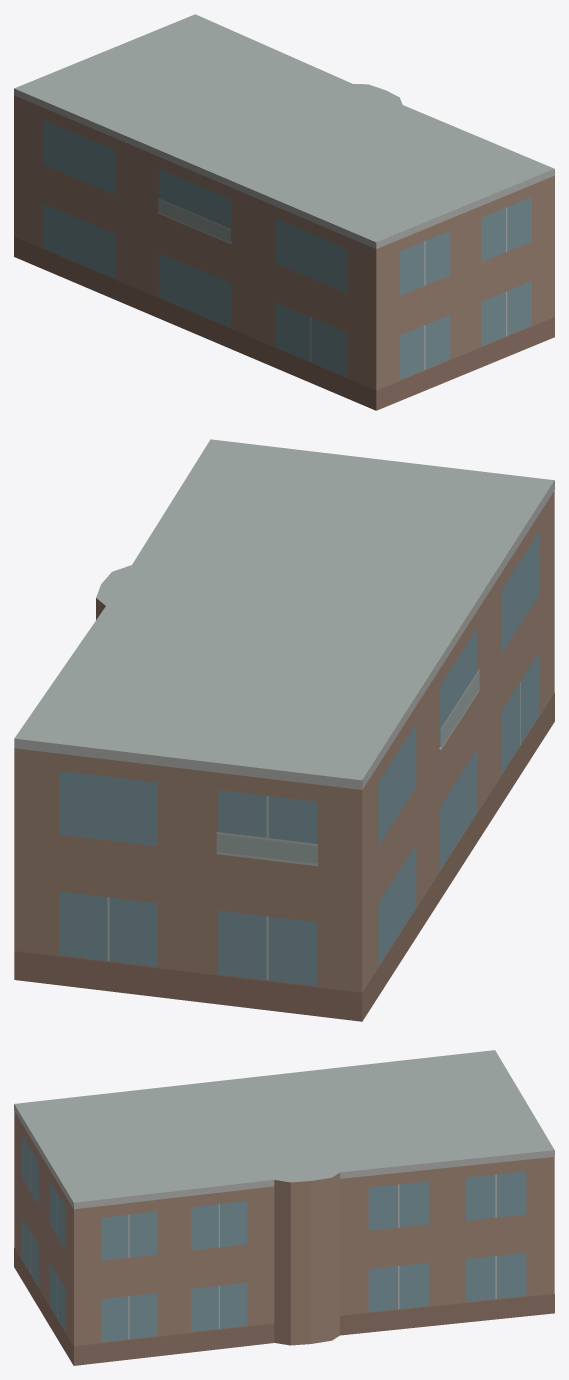
Rendered from survey-upis-32607720.glb.
3 renders of one model, top to bottom at view 1: azimuth 30°, elevation 25°; view 2: azimuth 150°, elevation 25°; view 3: azimuth 270°, elevation 25°, orthographic. The views are drawn at different scales.
Parts seen in each view (by area): view 1: survey-upis-32607720.tmp; view 2: survey-upis-32607720.tmp; view 3: survey-upis-32607720.tmp.
Part boxes in pixels (<box>): survey-upis-32607720.tmp: <box>14,14,554,410</box>; survey-upis-32607720.tmp: <box>14,439,554,1021</box>; survey-upis-32607720.tmp: <box>14,1050,554,1365</box>.
Size of the model in its own units: 12.27 by 6.1 by 18.34.
